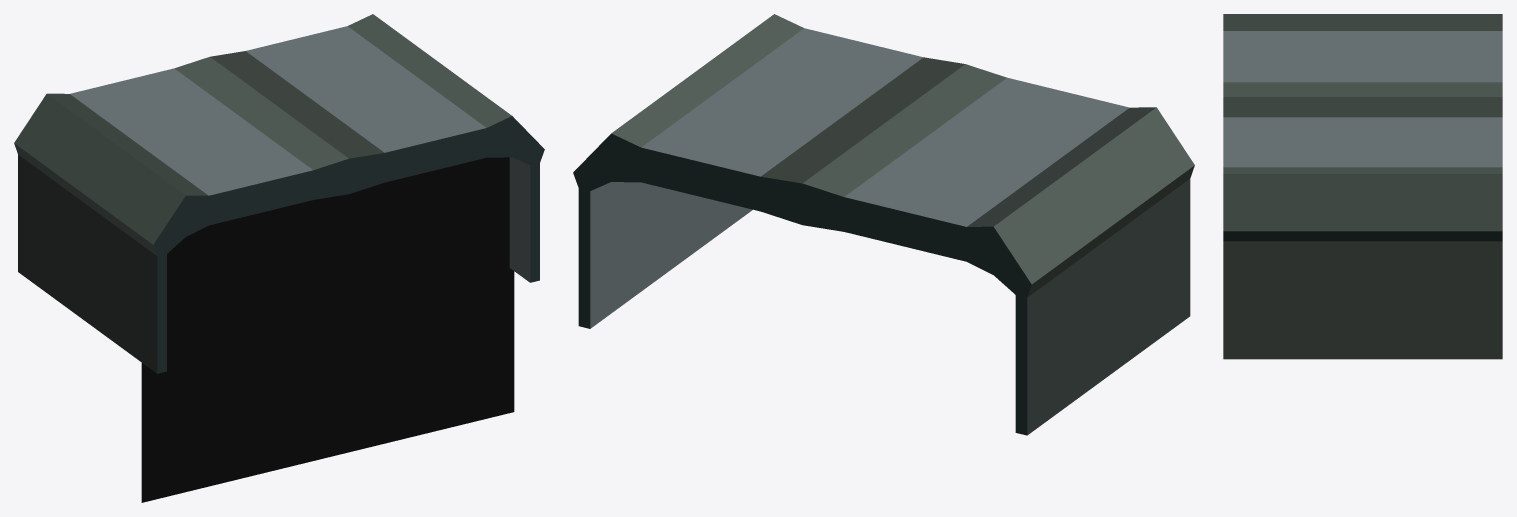
File: slicerv5.fbx
The picture shows the model from 3 angles, left to right: view 1: azimuth 30°, elevation 25°; view 2: azimuth 150°, elevation 25°; view 3: azimuth 270°, elevation 25°; orthographic projection. The views are drawn at different scales.
Parts seen in each view (by area): view 1: Cube; view 2: Cube; view 3: Cube.
Boxes of the visible parts, left/top/right/bottom form: Cube: left=14, top=14, right=544, bottom=502; Cube: left=573, top=14, right=1194, bottom=435; Cube: left=1223, top=14, right=1502, bottom=359.
Size of the model in its own units: 325 by 251 by 200.
Materials: 1 (1 with a texture image).
